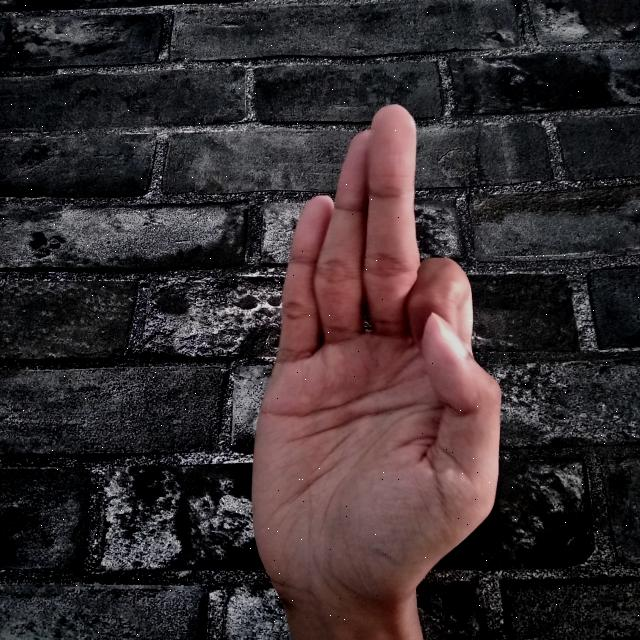F: (250, 101, 504, 640)
